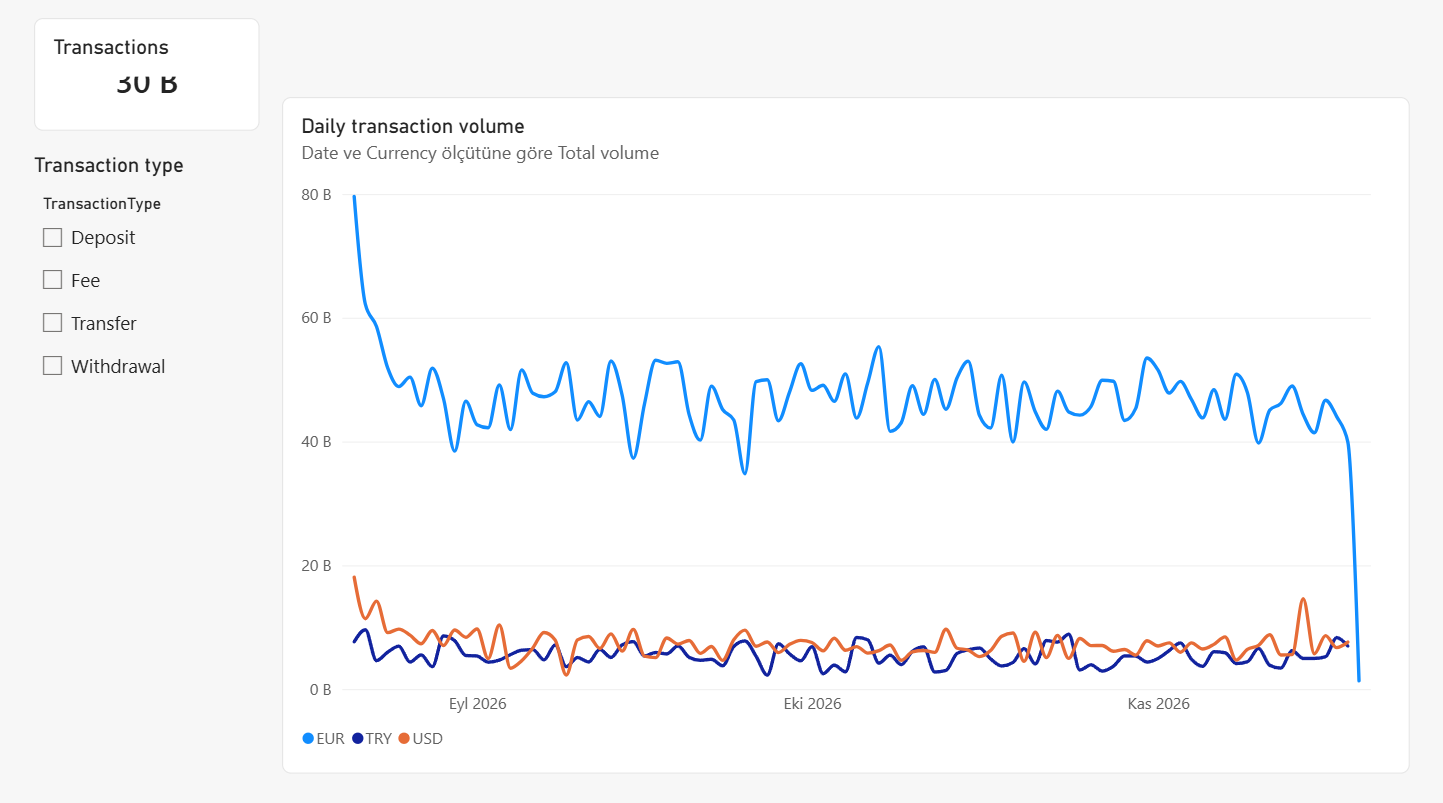

The page's visual inventory and layout, read from the dashboard file:
{"tool":"powerbi","page":{"name":"Daily transaction volume","canvas":[1280,720],"ordinal":0},"visuals":[{"type":"card","title":"Transactions","fields":{"Values":["vw_DailyTransactionVolume.Transactions count"]},"box":[30,20,200,100],"z":0},{"type":"lineChart","title":"Daily transaction volume","fields":{"Category":["vw_DailyTransactionVolume.Date"],"Series":["vw_DailyTransactionVolume.Currency"],"Y":["vw_DailyTransactionVolume.Total volume"]},"box":[250,90,1000,600],"z":0},{"type":"slicer","title":"Transaction type","fields":{"Values":["vw_DailyTransactionVolume.TransactionType"]},"box":[30,140,200,260],"z":0}]}

Visuals, with their boxes on the page's 1280x720 design canvas (x1, y1, x2, y2). These are canvas units, not pixel positions in the 1443x803 screenshot, which may show the page scaled, cropped or inside an application window:
"Transactions" card: [30, 20, 230, 120]
"Daily transaction volume" lineChart: [250, 90, 1250, 690]
"Transaction type" slicer: [30, 140, 230, 400]
